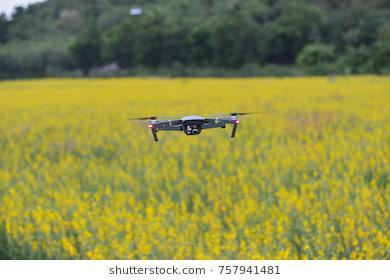drone: (125, 110, 263, 143)
